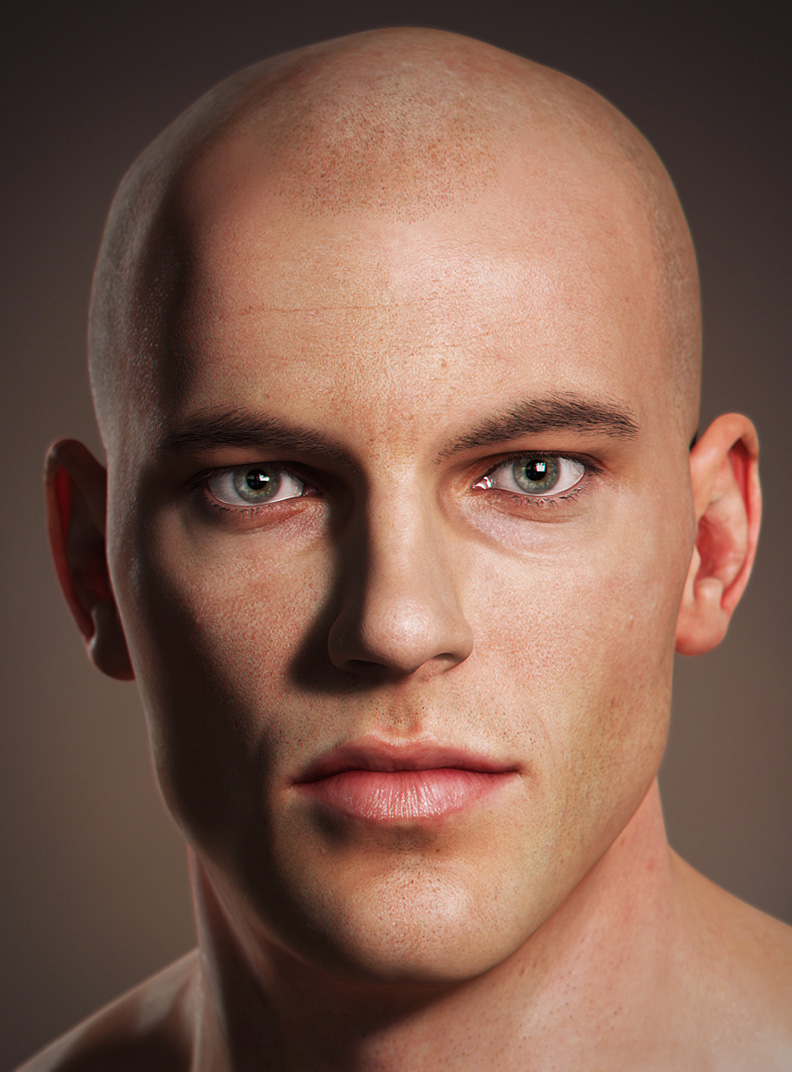bare: (105, 548, 688, 972)
